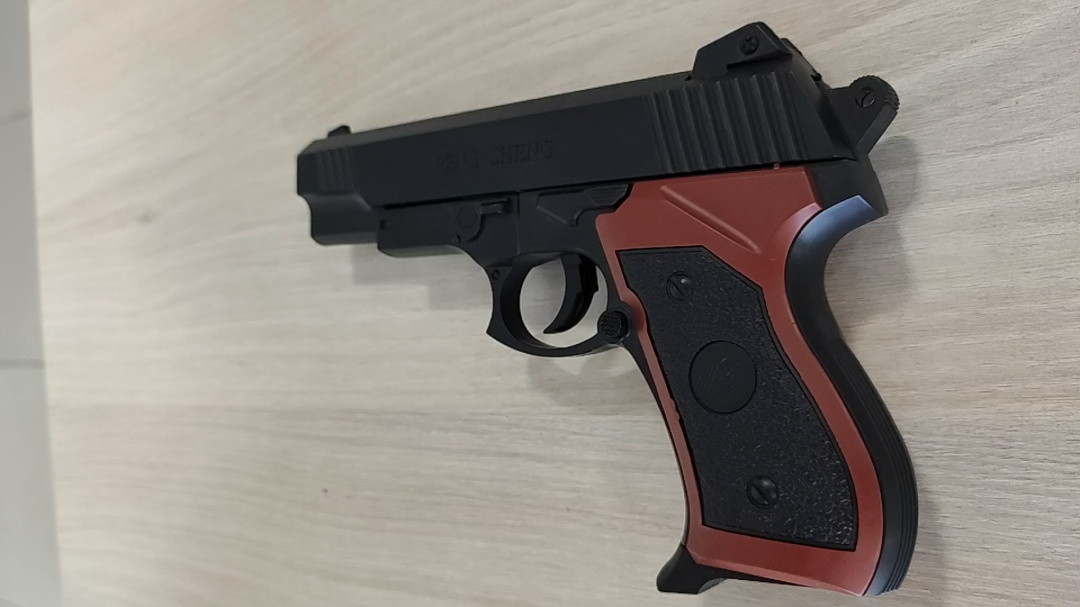gun: (549, 175, 639, 279)
